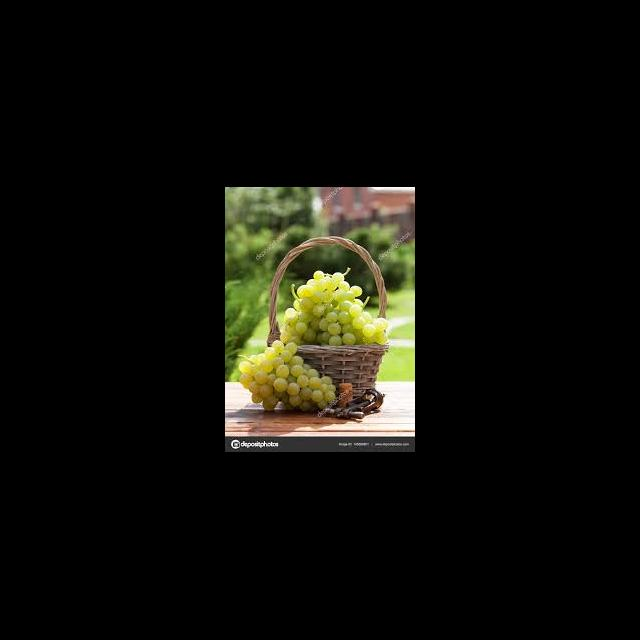grape: (279, 266, 388, 346), (238, 339, 336, 412)
